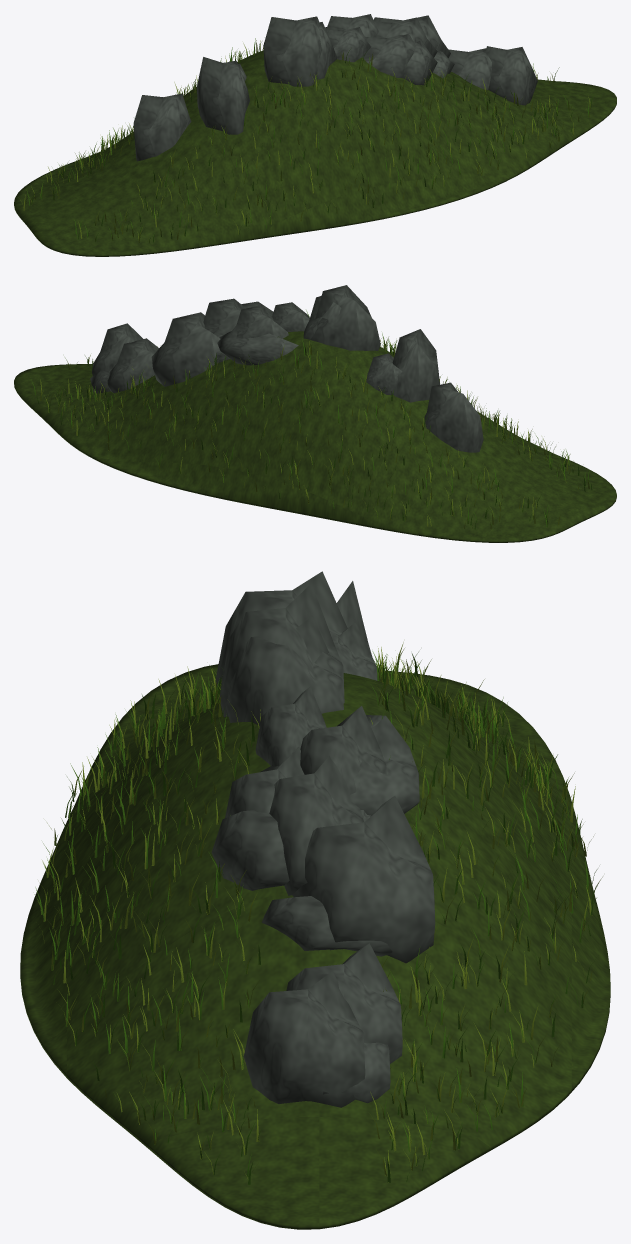
Rendered from 07_small_hill_v2_ridge.glb.
The picture shows the model from 3 angles, top to bottom: view 1: azimuth 30°, elevation 25°; view 2: azimuth 150°, elevation 25°; view 3: azimuth 270°, elevation 25°; orthographic projection. The views are drawn at different scales.
Parts seen in each view (by area): view 1: Hill variant | distinct closed terrain heightfield, 07_small_hill_v2_ridge | Hill | weathered slate, Hill variant | slope grasses; view 2: Hill variant | distinct closed terrain heightfield, 07_small_hill_v2_ridge | Hill | weathered slate, Hill variant | slope grasses; view 3: Hill variant | distinct closed terrain heightfield, 07_small_hill_v2_ridge | Hill | weathered slate, Hill variant | slope grasses.
Boxes of the visible parts, x1,y1,x2,y2 form: Hill variant | distinct closed terrain heightfield: [14, 50, 616, 256]; 07_small_hill_v2_ridge | Hill | weathered slate: [133, 14, 537, 161]; Hill variant | slope grasses: [20, 38, 593, 243]; Hill variant | distinct closed terrain heightfield: [14, 331, 616, 542]; 07_small_hill_v2_ridge | Hill | weathered slate: [90, 285, 483, 452]; Hill variant | slope grasses: [32, 310, 592, 529]; Hill variant | distinct closed terrain heightfield: [20, 664, 610, 1229]; 07_small_hill_v2_ridge | Hill | weathered slate: [211, 571, 435, 1107]; Hill variant | slope grasses: [34, 642, 602, 1184].
Bounding box in the file's own units: 10.59 × 2.77 × 4.68.
Materials: 4 (4 with a texture image).
